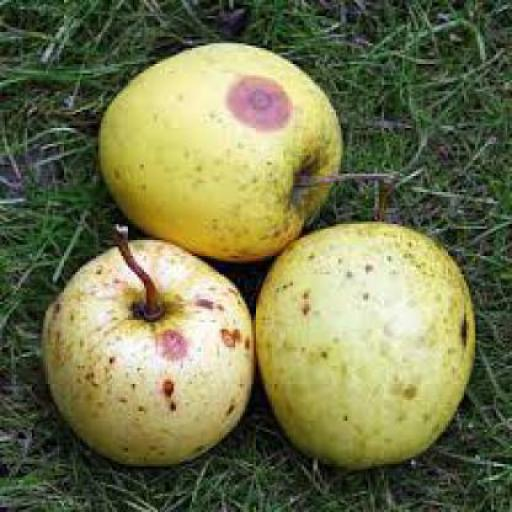biodegradable: (100, 41, 404, 263), (256, 178, 478, 464), (41, 220, 258, 466)
